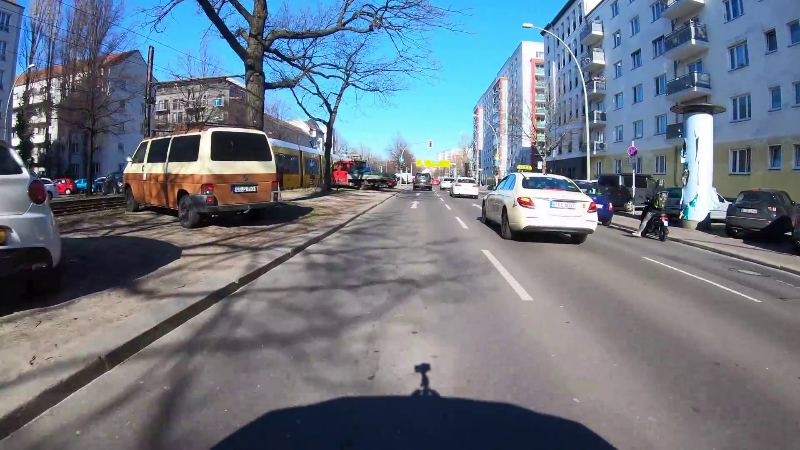Plate: (549, 198, 576, 209), (229, 183, 259, 192)
